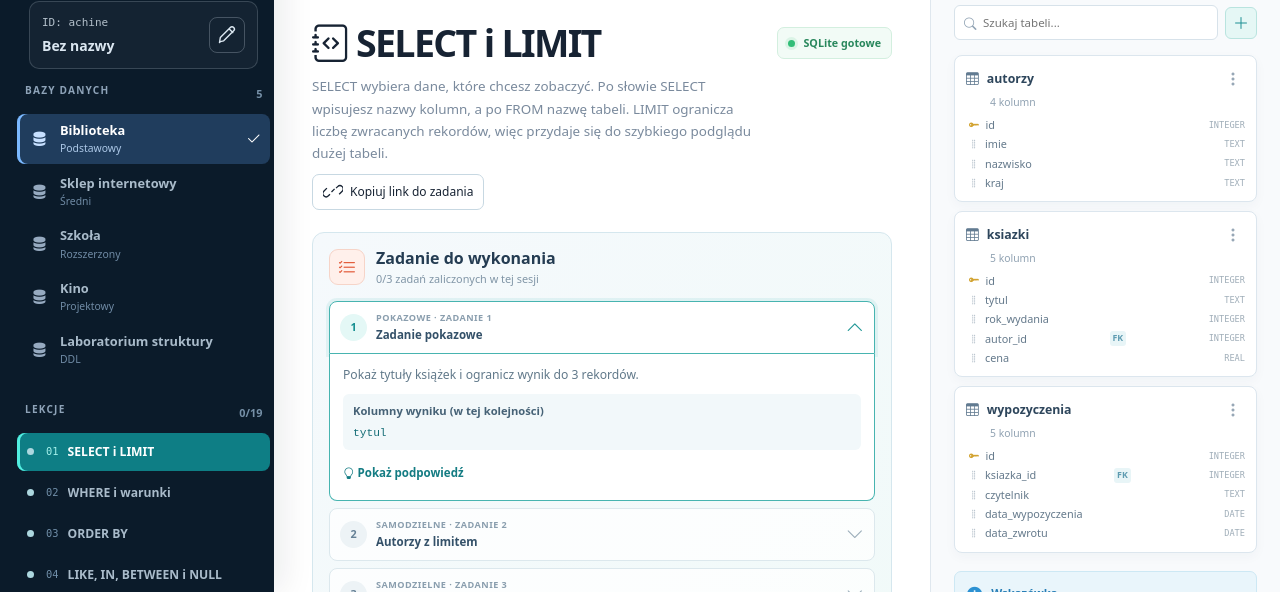
it: checks independent SQL without exposing its solution, including after remount
Later steps or results of the test are not shown.
Click the button "2 Samodzielne · Zadanie 2 Autorzy z limitem" at coordinates (411, 524), box [329,508,875,561]
(page scrolled)
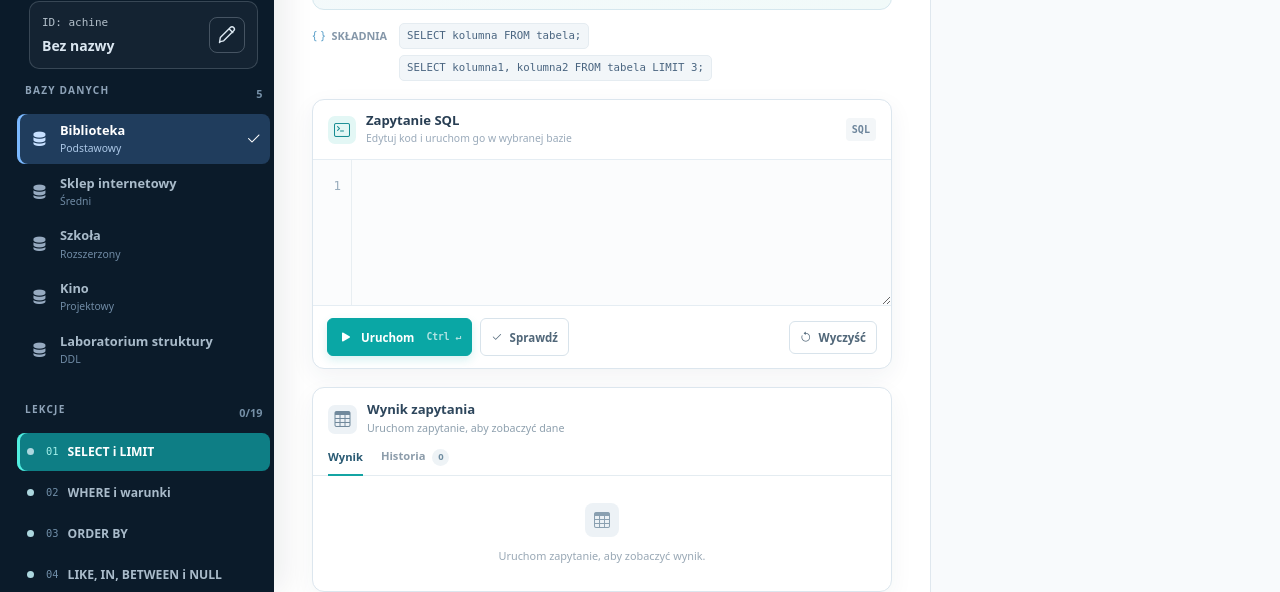
Expected: the button "Rozwiązanie" is not shown
Type "SELECT imie, nazwisko FROM autorzy LIMIT 3;" into the text box named "Zapytanie SQL" at coordinates (622, 233), box [352,160,891,305]
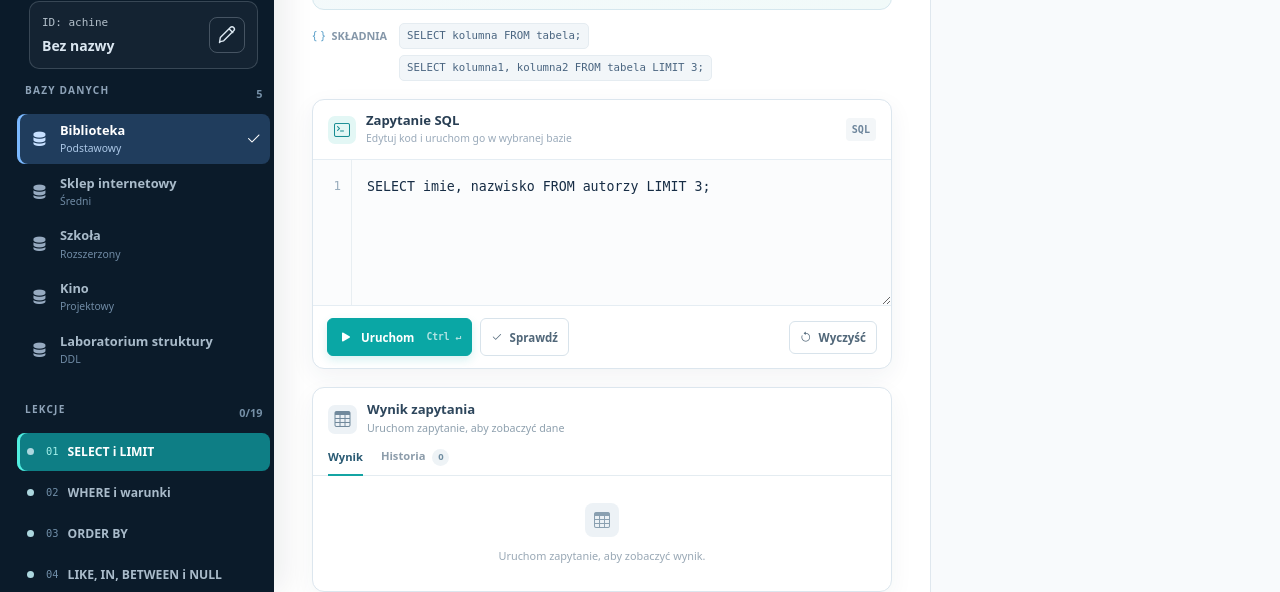
Click the button "Sprawdź" at coordinates (525, 337), box [480,318,569,356]
(page scrolled)
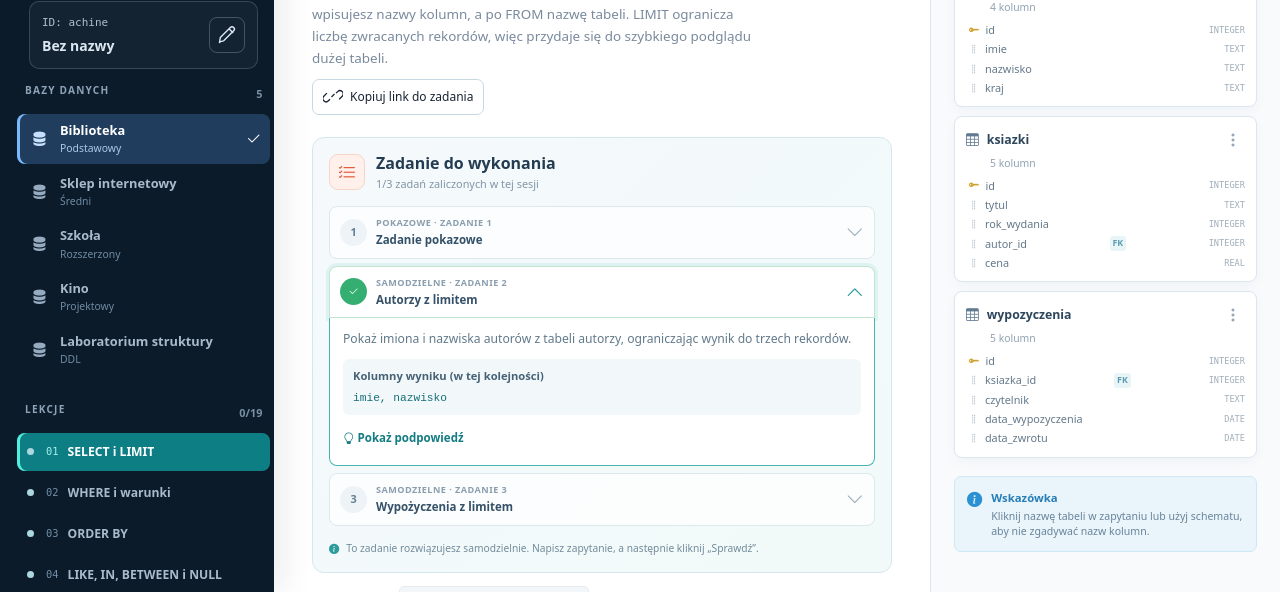
Now the text "1/3 zadań zaliczonych w tej sesji" is shown, box [376,176,556,193]
Click the button "1 Pokazowe · Zadanie 1 Zadanie pokazowe" at coordinates (404, 222), box [329,206,875,259]
(page scrolled)
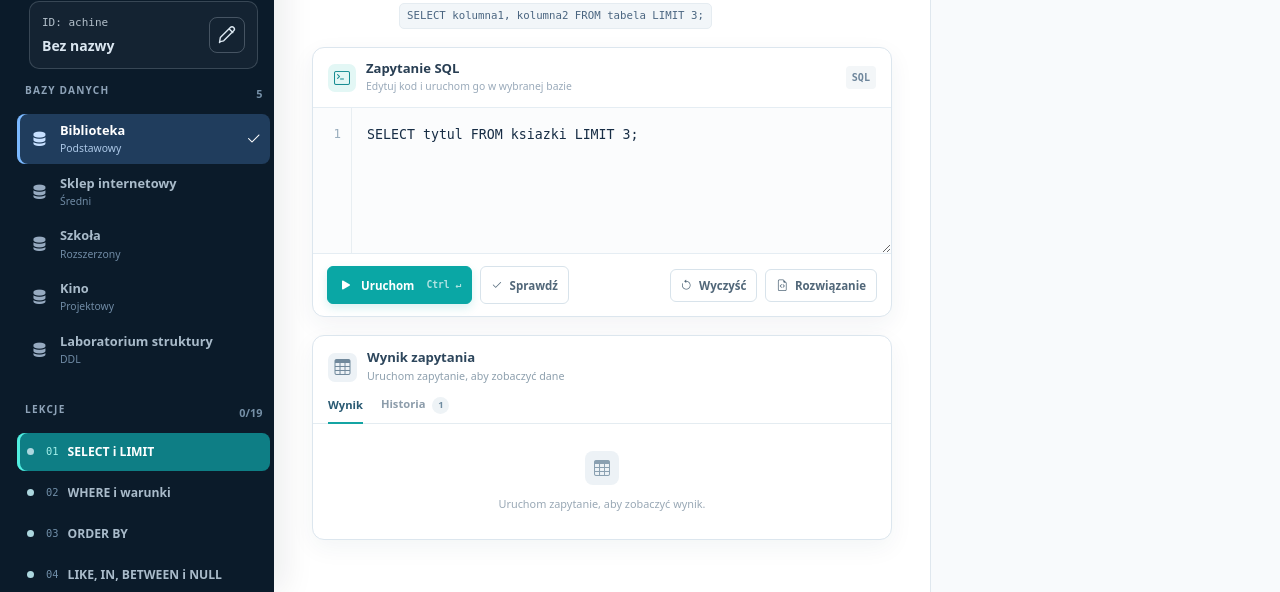
Now the button "Rozwiązanie" is shown, box [766,269,877,302]
